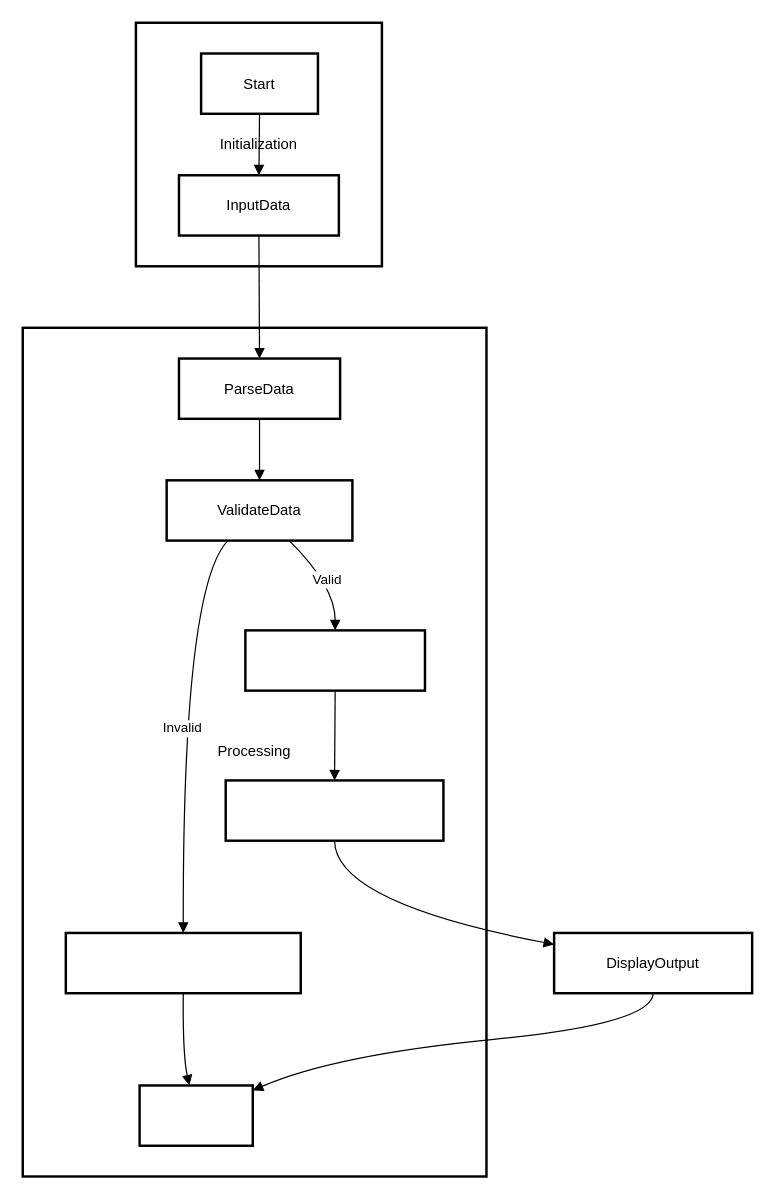
Some shapes in this 774 by 1198 pixel diagram are drawn without their labels. The centre of each missing label's shape, as x and y in pixels:
GenerateOutput: (x=334, y=810)
ProcessData: (x=335, y=660)
ShowErrorMessage: (x=182, y=962)
Stop: (x=195, y=1115)
